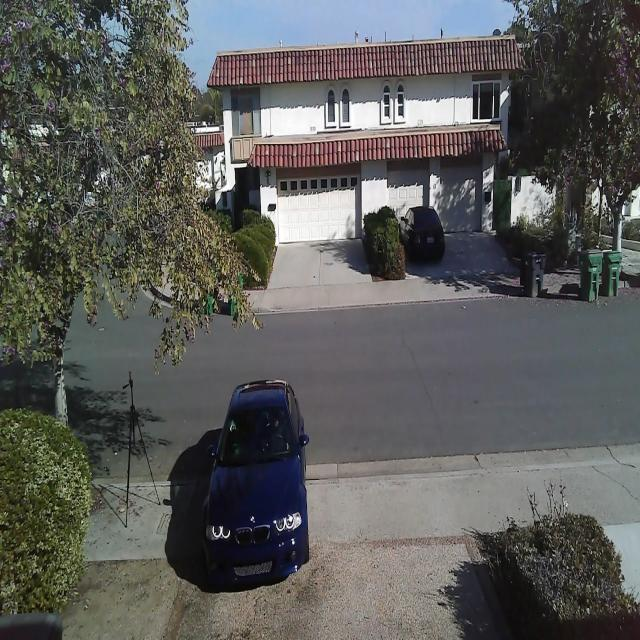Carbeetle: (184, 374, 320, 622)
